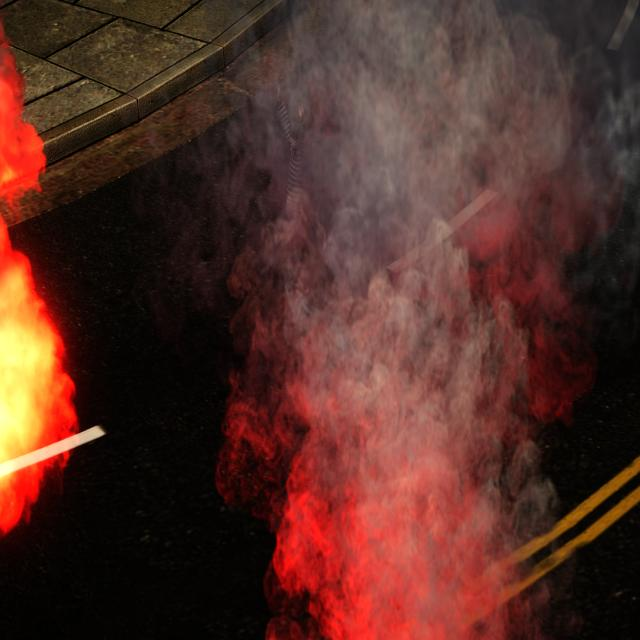Human: (272, 77, 309, 295)
